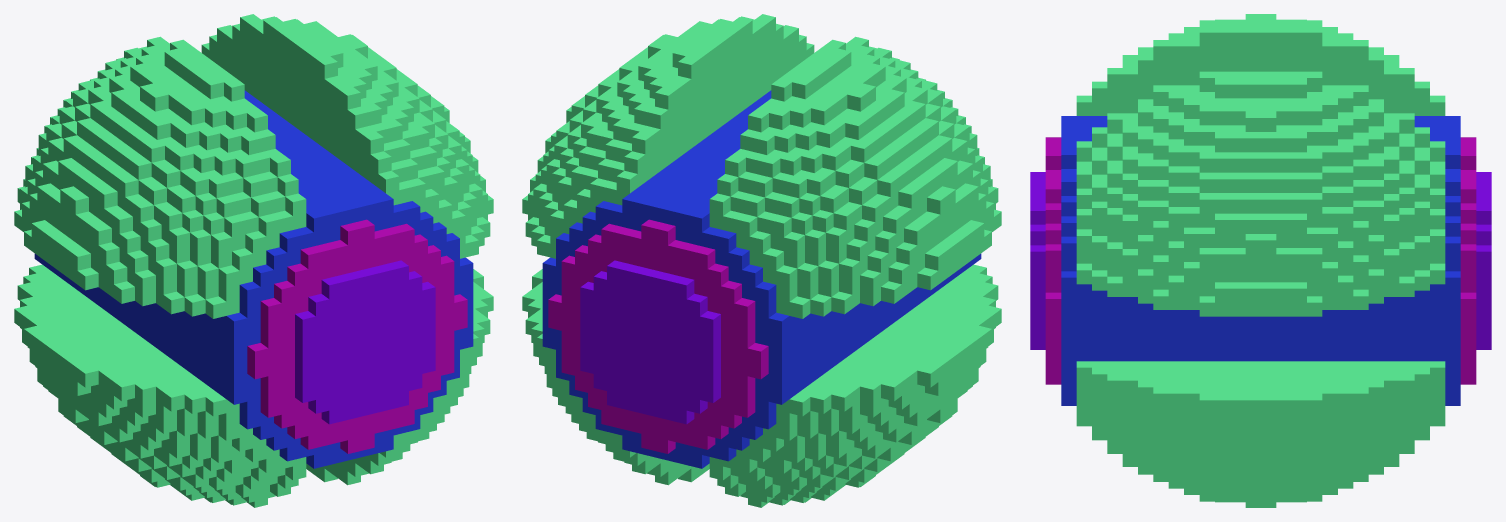
File: Character_8.fbx
The picture shows the model from 3 angles, left to right: view 1: azimuth 30°, elevation 25°; view 2: azimuth 150°, elevation 25°; view 3: azimuth 270°, elevation 25°; orthographic projection.
Visible parts, largest first — view 1: Character_8; view 2: Character_8; view 3: Character_8.
Part boxes in pixels (<box>): Character_8: <box>14,14,493,507</box>; Character_8: <box>522,14,1001,507</box>; Character_8: <box>1030,14,1491,507</box>.
Bounding box in the file's own units: 30 × 30 × 30.
1 material, 1 textured.
